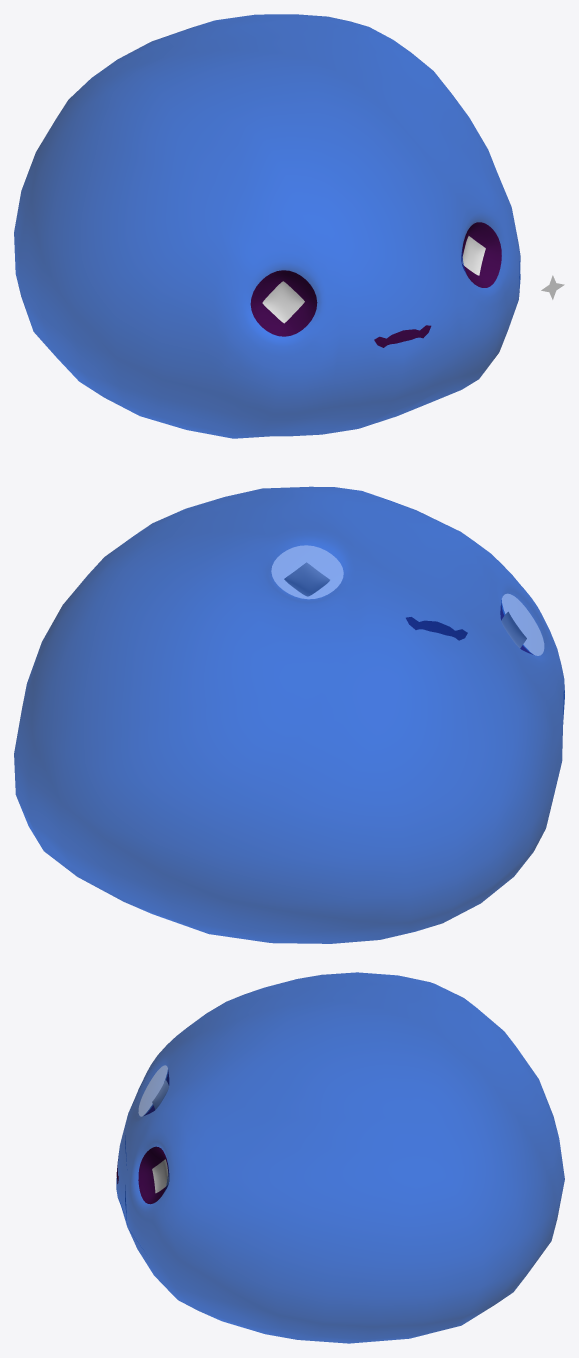
Rendered from slime.glb.
3 renders of one model, top to bottom at view 1: azimuth 30°, elevation 25°; view 2: azimuth 150°, elevation 25°; view 3: azimuth 270°, elevation 25°, orthographic. The views are drawn at different scales.
Visible parts, largest first — view 1: Cube; view 2: Cube; view 3: Cube.
Part boxes in pixels (x1,y1,x2,y2): Cube: (14,14,520,438); Cube: (14,486,564,943); Cube: (116,972,564,1343).
Size of the model in its own units: 1.77 by 1.42 by 2.31.
